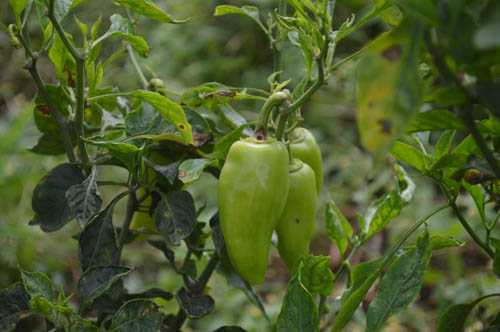ChiliPepper: (216, 140, 286, 291), (281, 165, 319, 283), (289, 136, 325, 203)
